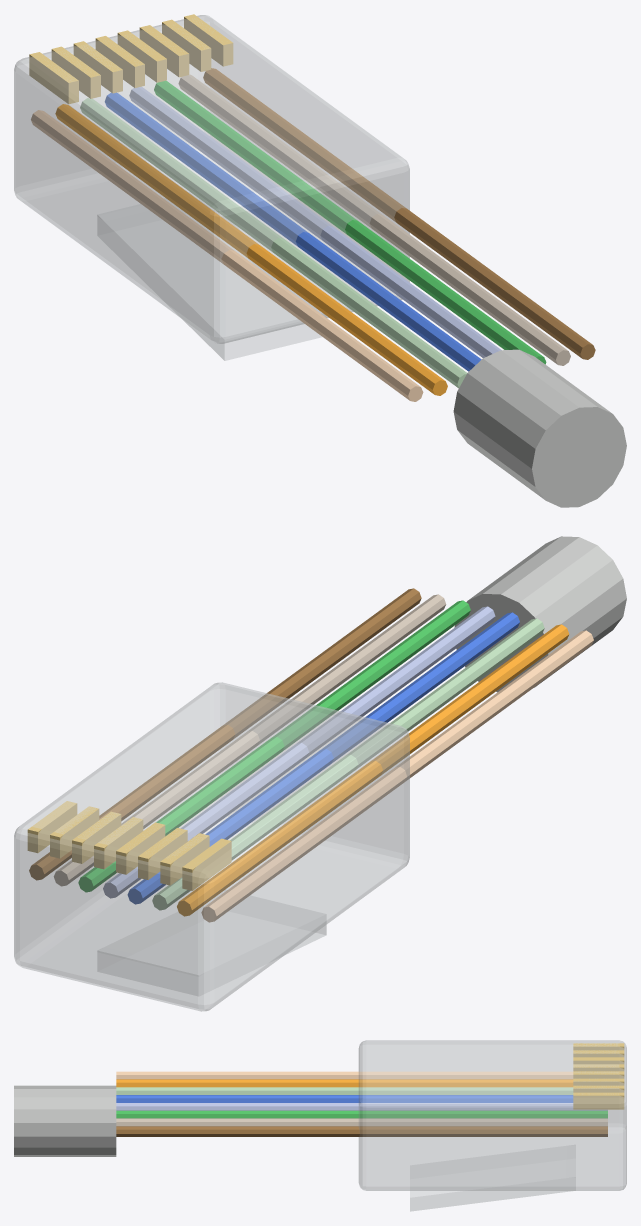
The model's file is cable_rj45_plug_untwisted.glb.
The picture shows the model from 3 angles, top to bottom: view 1: azimuth 30°, elevation 25°; view 2: azimuth 150°, elevation 25°; view 3: azimuth 270°, elevation 25°; orthographic projection. The views are drawn at different scales.
Parts seen in each view (by area): view 1: variant_untwisted_mesh, plug_body, latch; view 2: plug_body, variant_untwisted_mesh, latch; view 3: plug_body, variant_untwisted_mesh, latch.
Part boxes in pixels (x1,y1,x2,y2): variant_untwisted_mesh: (31,68,626,507); plug_body: (14,14,409,343); latch: (97,192,326,360); plug_body: (14,682,409,1011); variant_untwisted_mesh: (29,536,626,922); latch: (97,890,326,995); plug_body: (358,1040,626,1190); variant_untwisted_mesh: (14,1071,607,1156); latch: (410,1145,575,1211).
Size of the model in its own units: 0.0117 by 0.0109 by 0.048.
